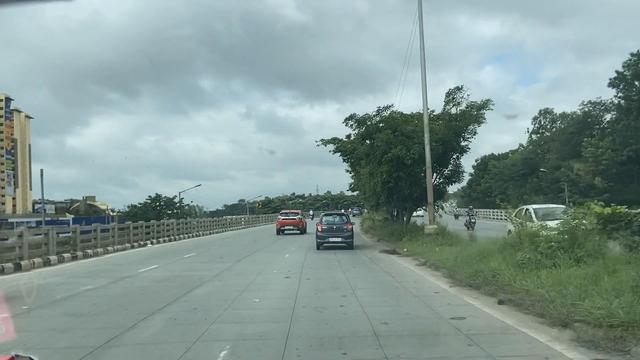LMV: (317, 213, 350, 251), (279, 211, 307, 236)
